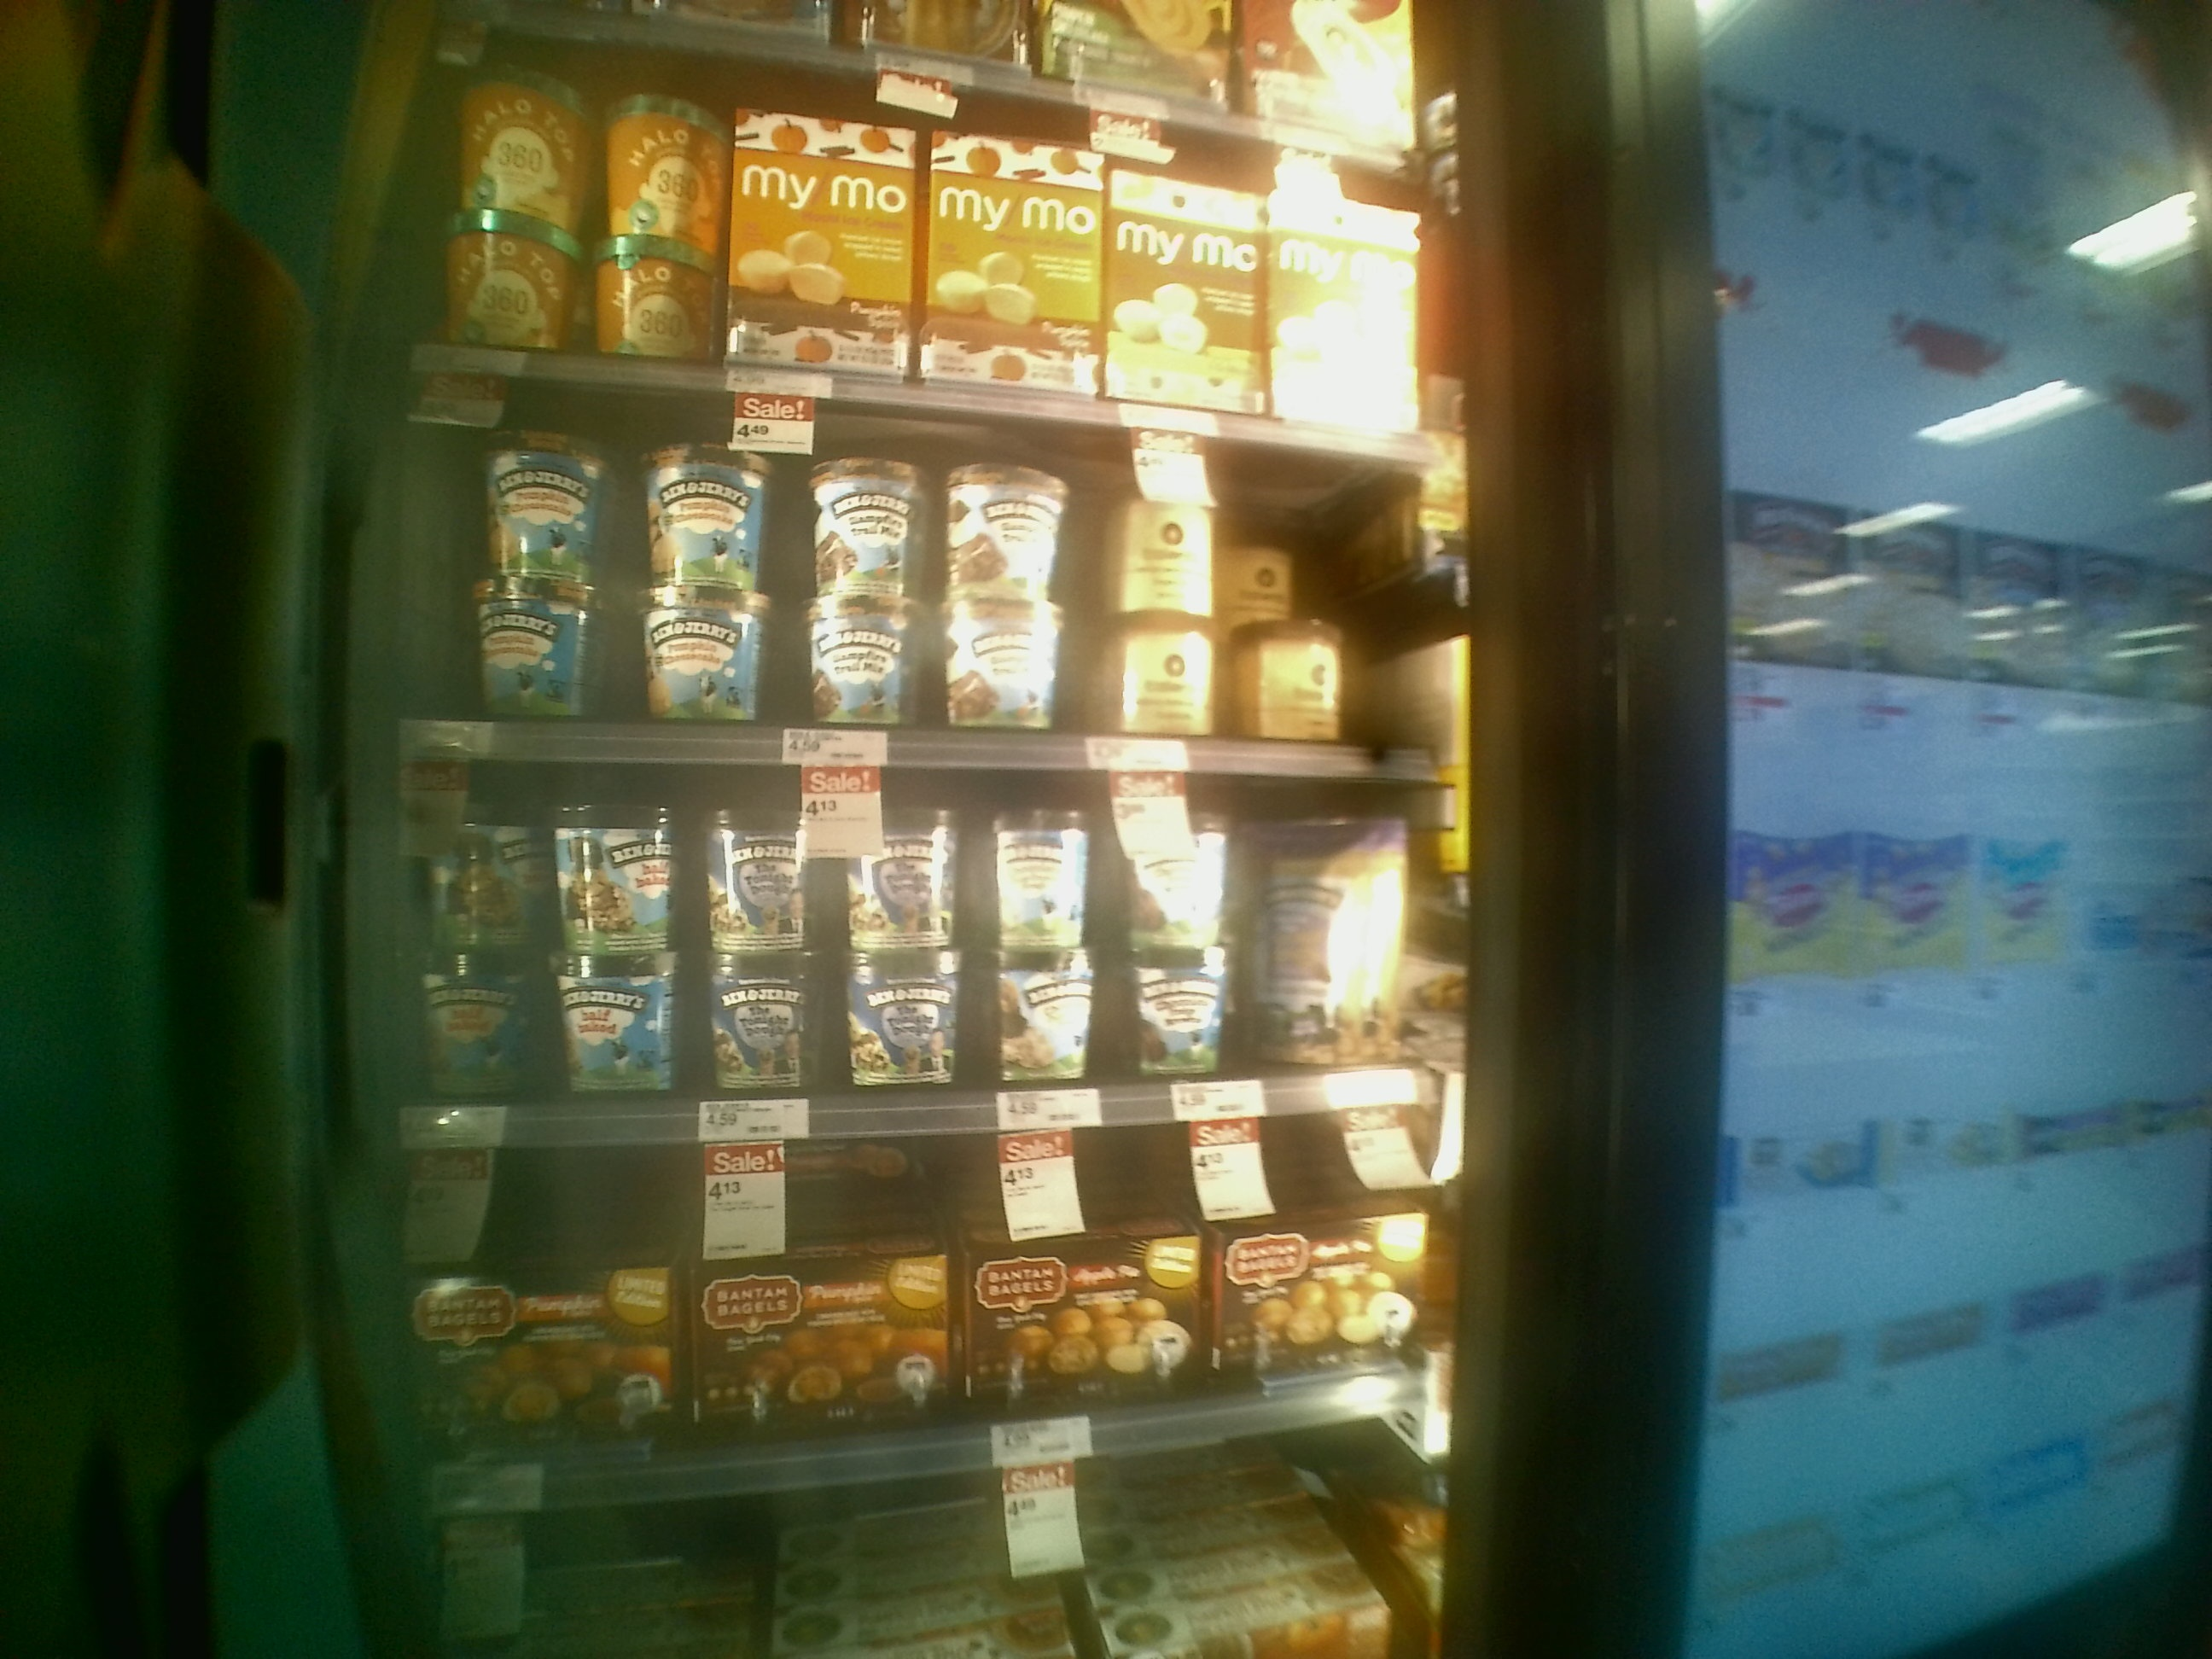shelf: (383, 357, 1479, 775), (364, 746, 1442, 1124), (359, 1121, 1444, 1469)
